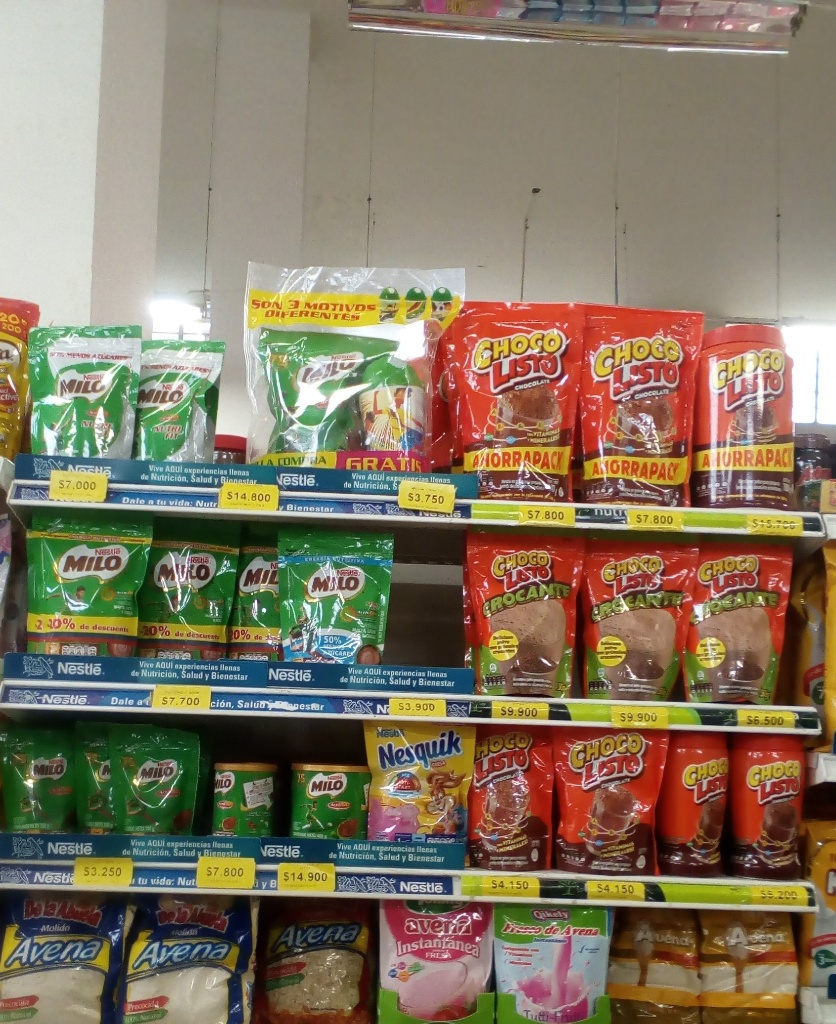COL0170102DYP50000: (468, 529, 585, 701)
COL0170103DYP20000: (471, 721, 557, 873)
COL0170103DYP44000: (442, 294, 585, 504)
COL0170103TRR00100: (699, 318, 794, 509)
COL0170103TRR30000: (657, 729, 732, 878)
COL0170203DYP10000: (3, 726, 79, 837)
COL0170203DYP25000: (21, 506, 156, 666)
COL0170203DYP50000: (252, 311, 368, 453)
COL0170203LAT20000: (213, 759, 276, 839)
COL0170203LAT40000: (290, 758, 372, 841)
COL0170205DYP20000: (21, 325, 142, 466)
COL0170305DYP20000: (362, 719, 478, 871)
